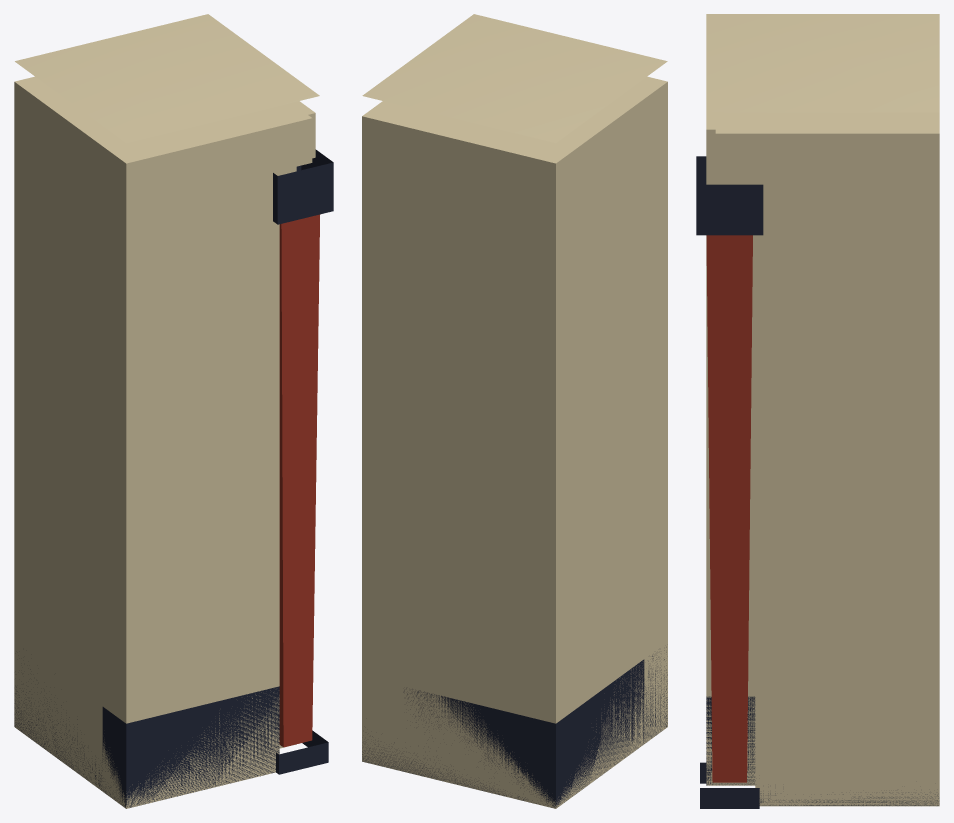
The model's file is gallery-inner.glb.
3 views of the same model, side by side, from view 1: azimuth 30°, elevation 25°; view 2: azimuth 150°, elevation 25°; view 3: azimuth 270°, elevation 25° (orthographic). The views are drawn at different scales.
Parts seen in each view (by area): view 1: gallery-inner; view 2: gallery-inner; view 3: gallery-inner.
Part boxes in pixels (box(x1,y1,x2,y2)): gallery-inner: box(14, 14, 333, 808); gallery-inner: box(362, 14, 667, 808); gallery-inner: box(696, 14, 939, 808).
Bounding box in the file's own units: 1.04 × 3.3 × 1.04.
